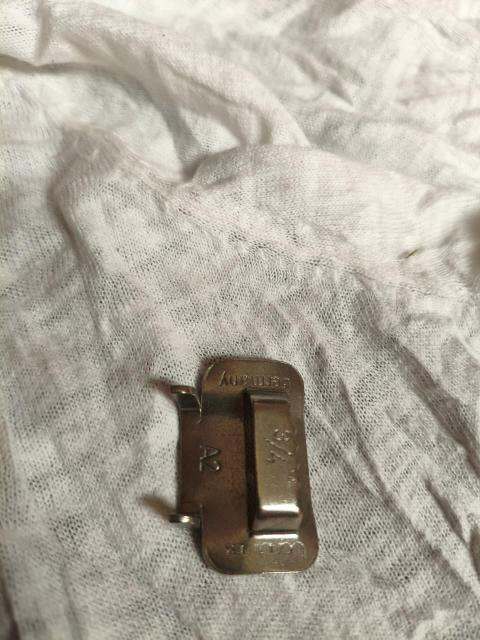Metal: (168, 357, 320, 580)
